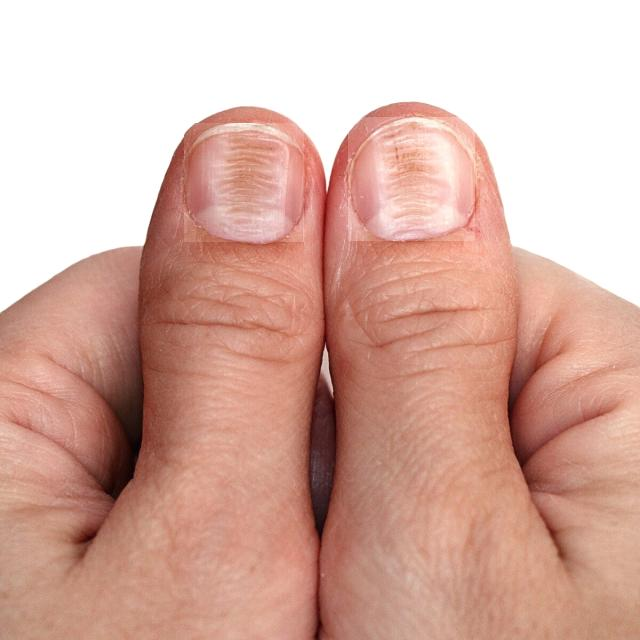diabetes: (348, 118, 475, 241), (185, 124, 304, 242)
